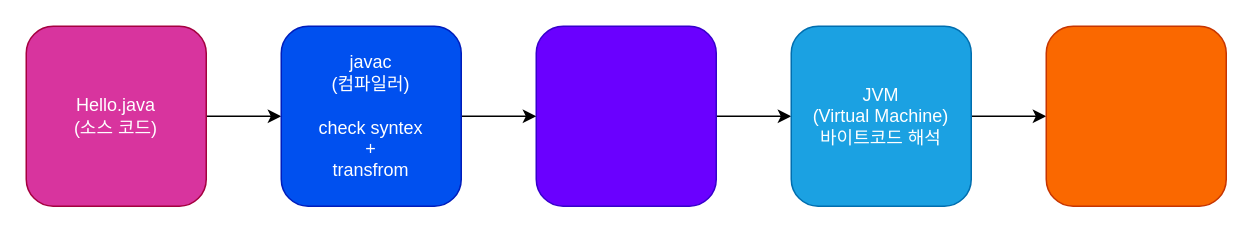
Image size: 1253x233. Some labels were removed from this diagram. Each missing label, with the centre of its shape:
Hello.class (바이트 코드): point 625,115
실행 (결과) 출력: point 1135,115
